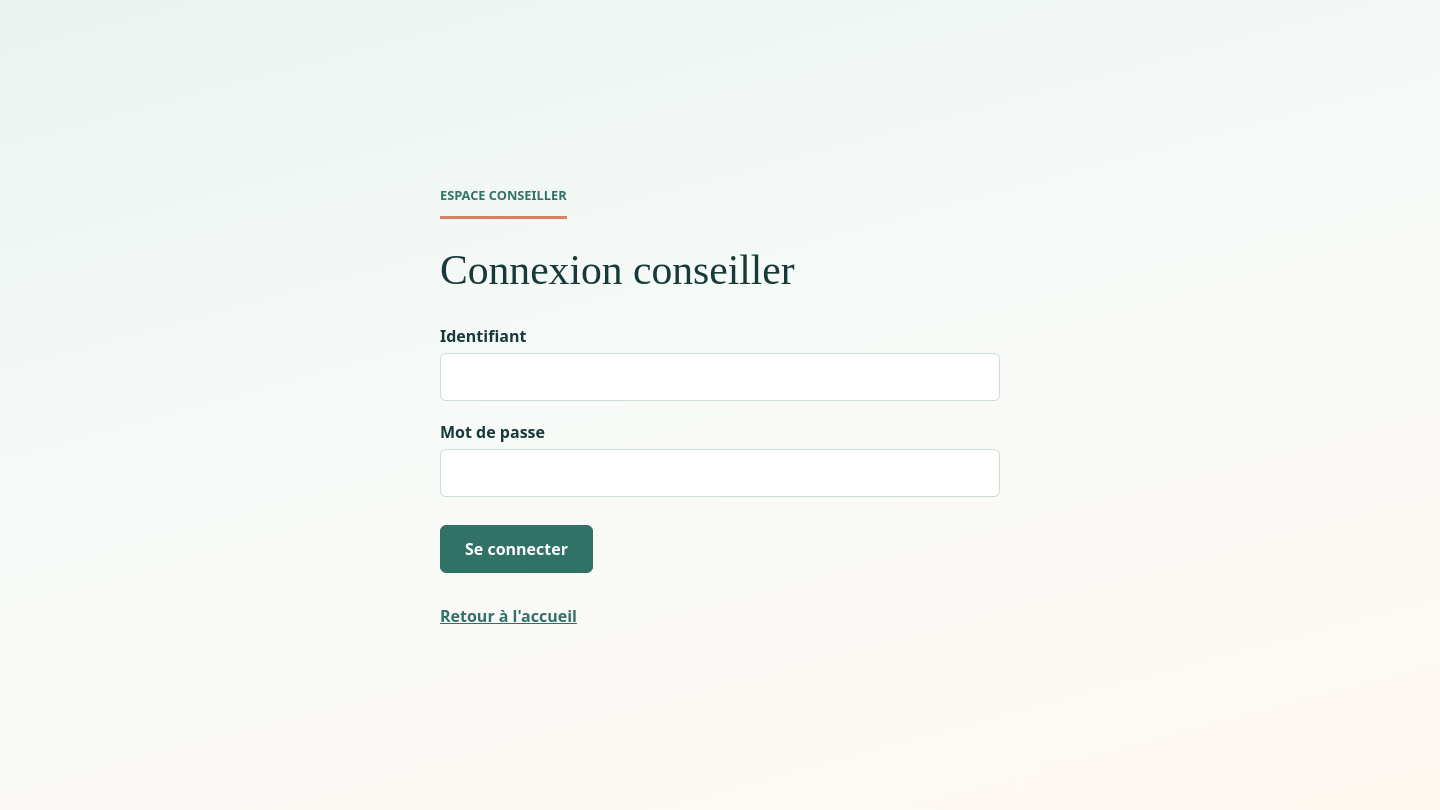
Connexion conseiller › ouvre le tableau de bord avec des identifiants valides
Type "admin" into the field labelled "Identifiant".
click(720, 377); type("admin")  # box [440,353,1000,401]
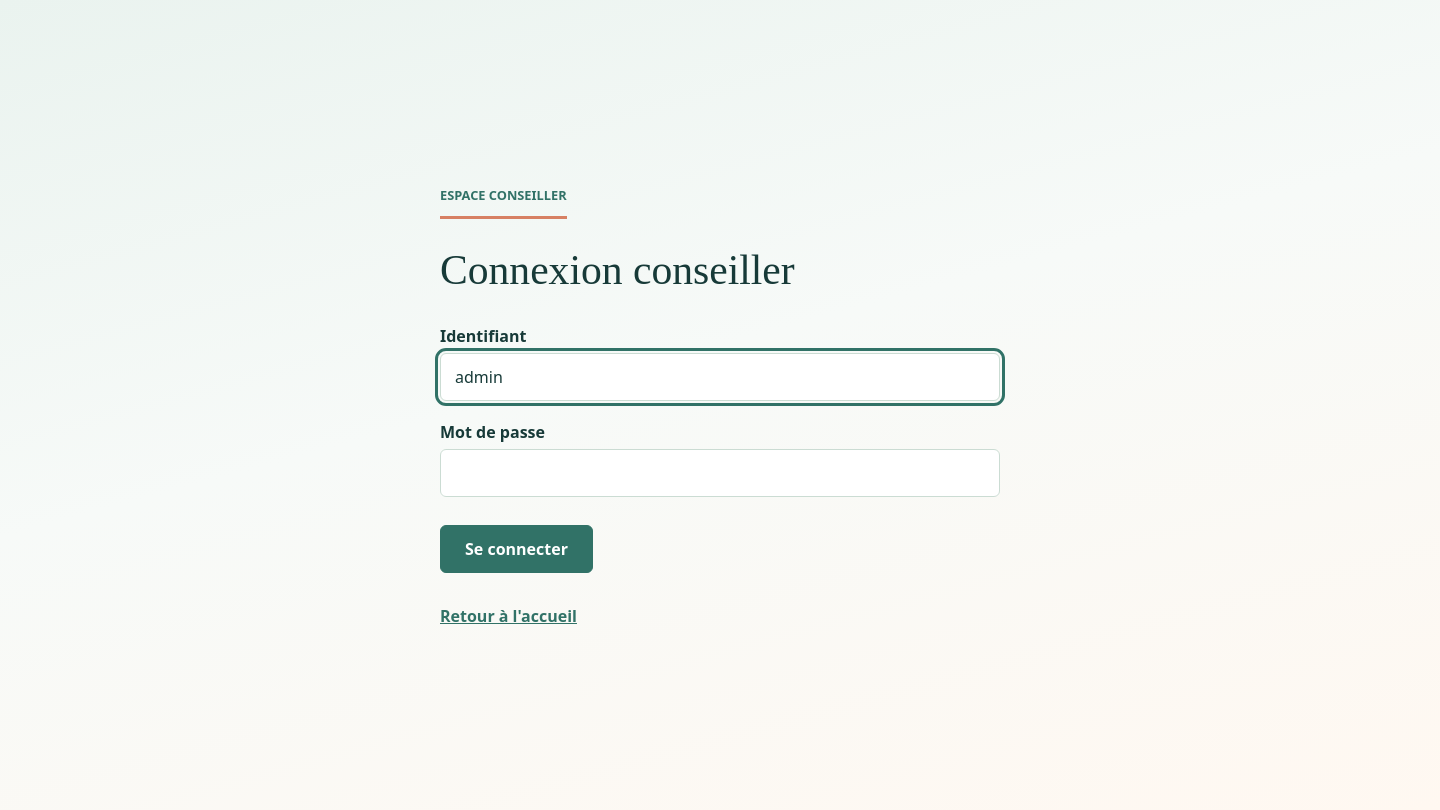
Type "admin" into the password field labelled "Mot de passe".
click(720, 473); type("admin")  # box [440,449,1000,497]
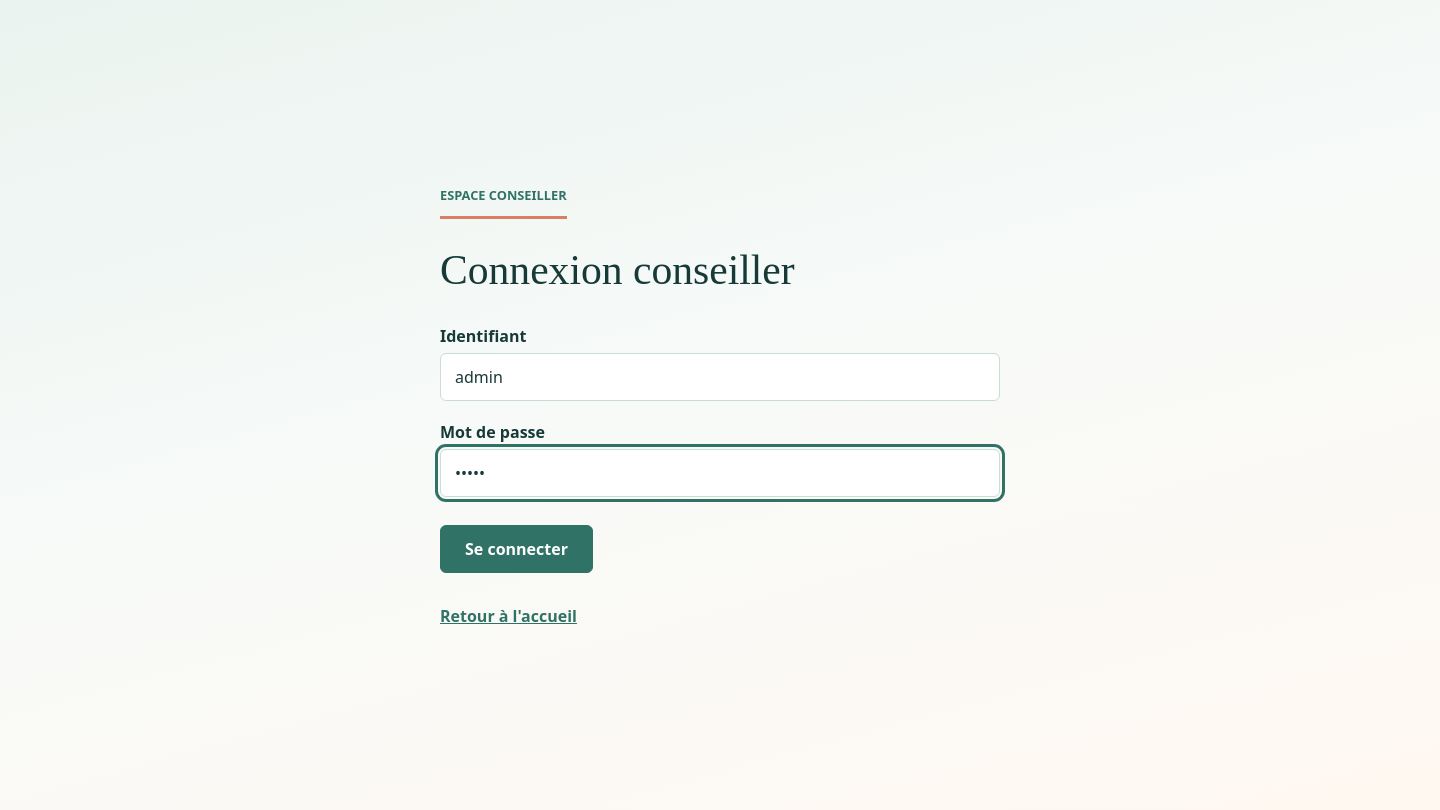
Click the button "Se connecter".
click(516, 549)  # box [440,525,593,573]
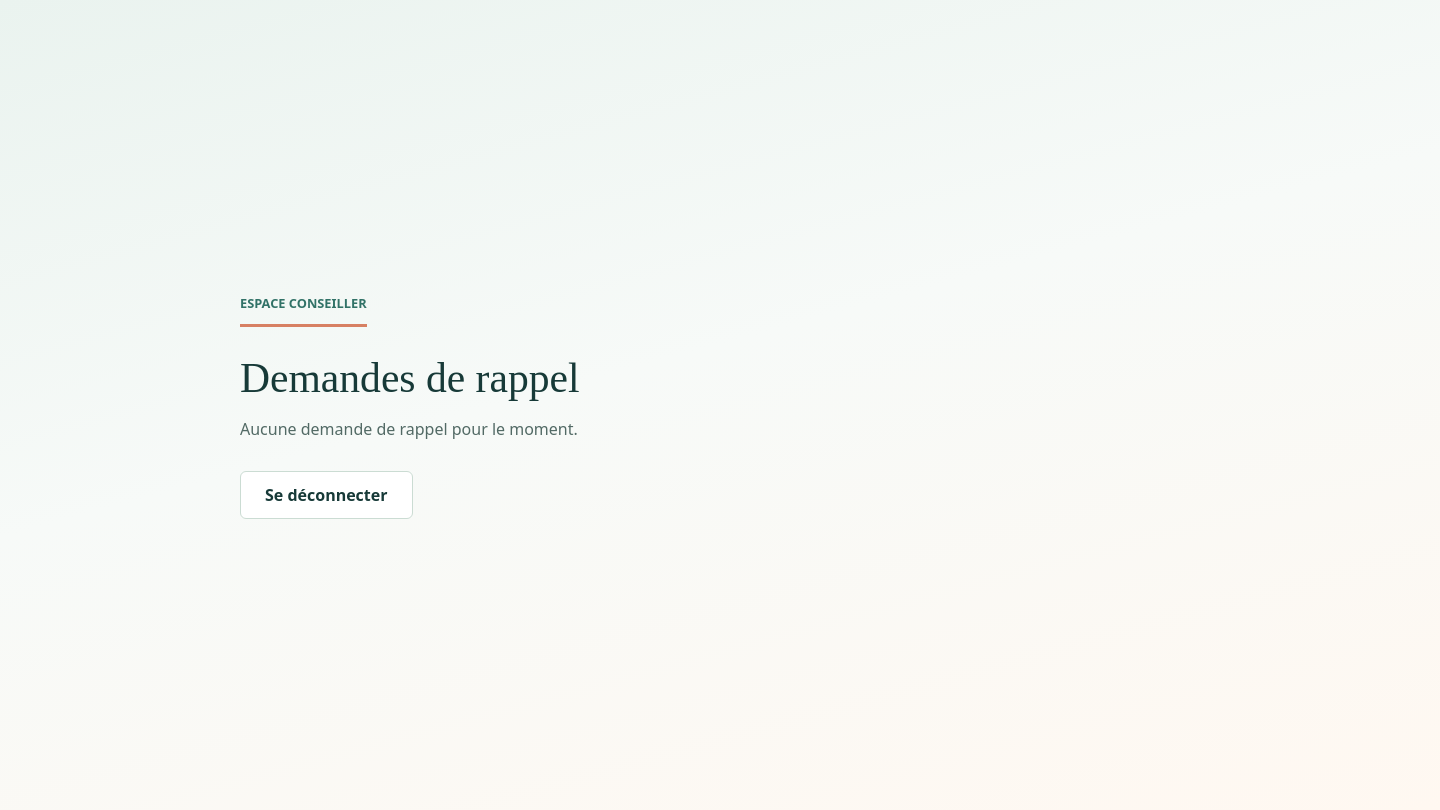
Expected: the heading "Demandes de rappel" is shown, [240,355,580,401]
